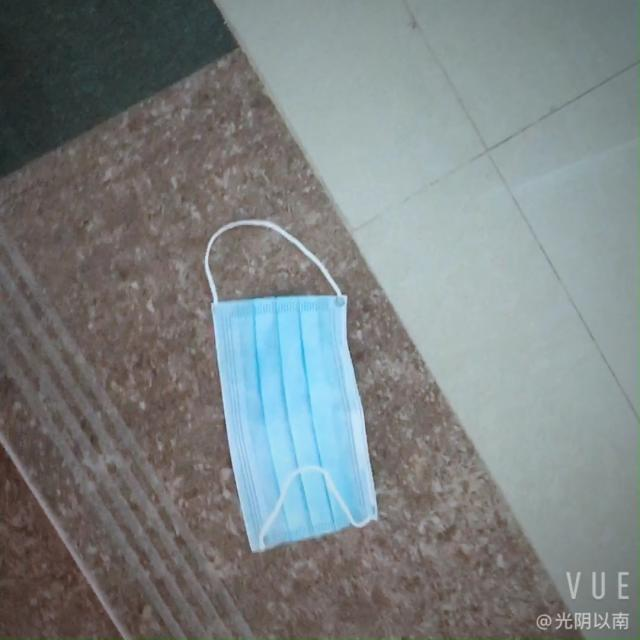non-organic waste: (200, 281, 384, 552)
